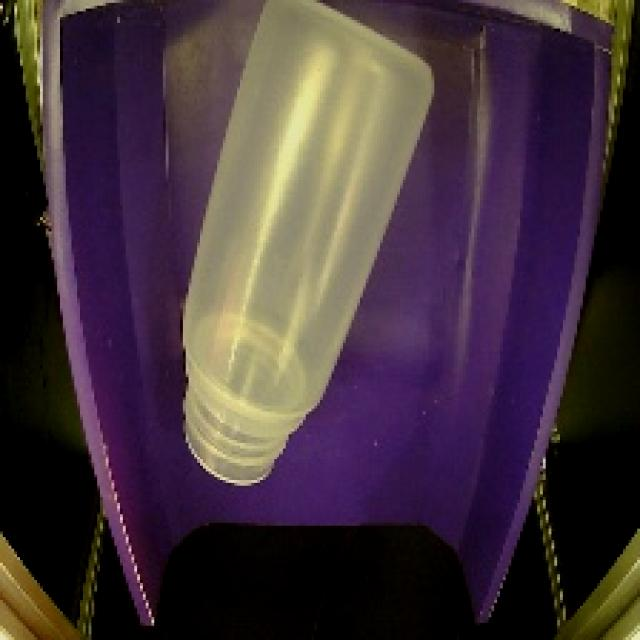plastic: (163, 0, 443, 512)
